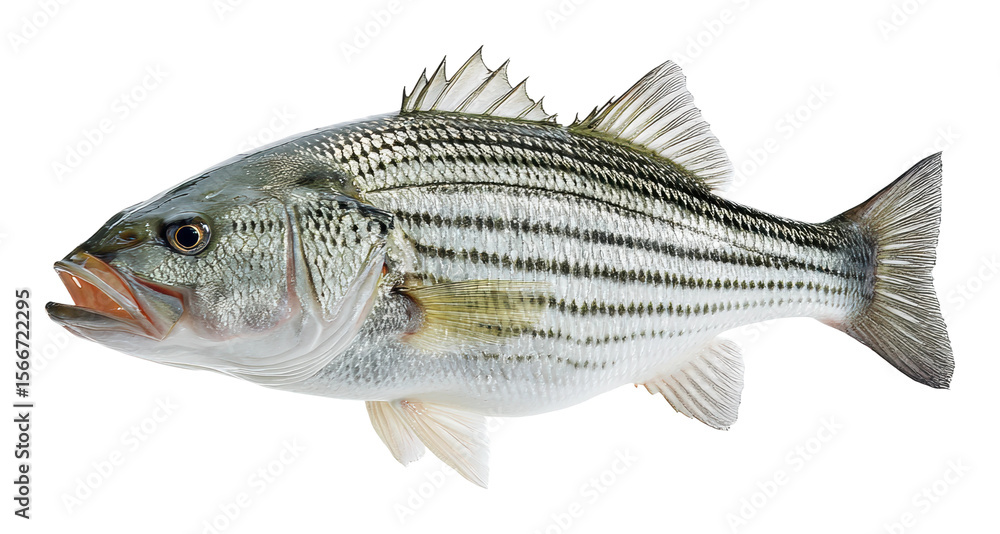Striped Bass: (50, 108, 1000, 515)
